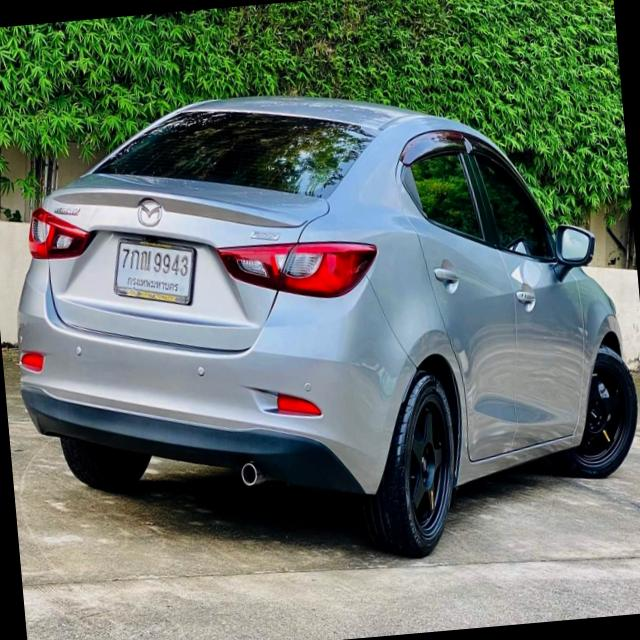license_plate: (107, 220, 204, 316)
